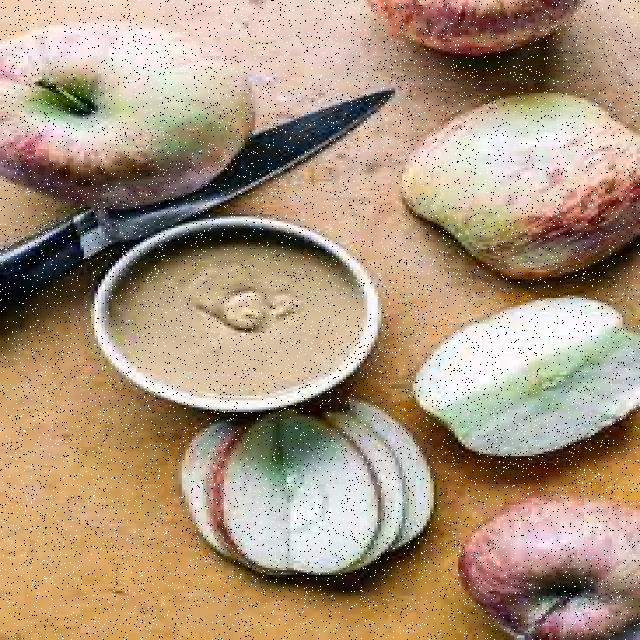Apple: (0, 20, 250, 202), (395, 96, 638, 280), (414, 295, 636, 454), (462, 500, 640, 638), (287, 412, 372, 577), (212, 415, 285, 574), (371, 1, 579, 55), (332, 404, 397, 561), (180, 430, 222, 564)
